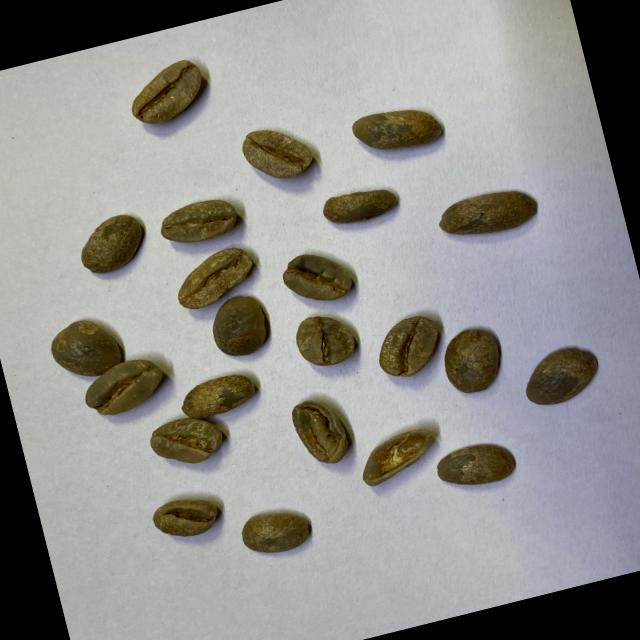bad: (354, 424, 447, 489), (287, 393, 354, 473), (288, 306, 361, 374)
good: (433, 180, 542, 246), (120, 56, 212, 132), (168, 242, 262, 312), (516, 339, 606, 411), (78, 353, 170, 421), (45, 310, 126, 386), (351, 97, 446, 160), (237, 116, 320, 186), (436, 320, 509, 398), (370, 310, 448, 382), (72, 208, 152, 278), (430, 434, 520, 495), (277, 243, 356, 309), (204, 290, 276, 361), (154, 191, 240, 250), (146, 408, 225, 471), (236, 501, 316, 560), (177, 368, 260, 424), (318, 180, 401, 231), (149, 492, 223, 545)
